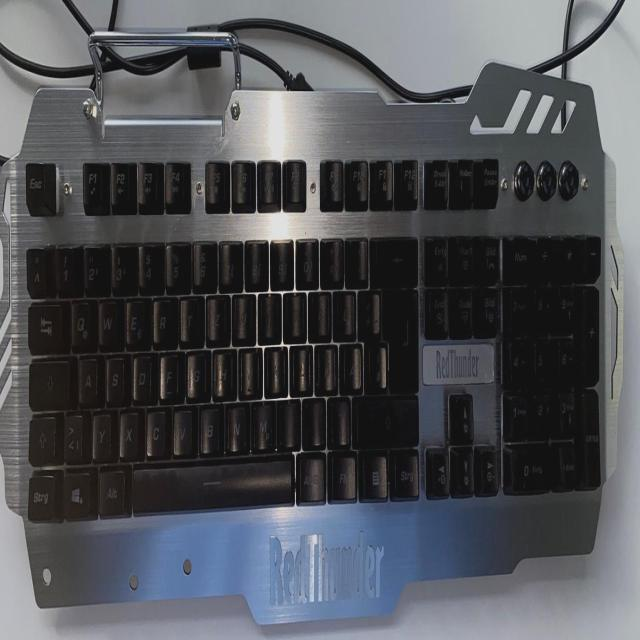0: (295, 234, 319, 286)
1: (54, 242, 79, 293)
2: (82, 239, 108, 293)
3: (110, 240, 134, 292)
4: (137, 240, 162, 291)
5: (164, 238, 190, 289)
6: (191, 236, 217, 288)
7: (218, 236, 242, 287)
8: (243, 235, 267, 288)
9: (269, 235, 294, 287)
a: (77, 351, 97, 403)
accent: (344, 232, 367, 283)
ae: (339, 338, 362, 390)
alt-left: (97, 462, 125, 514)
altgr-right: (296, 449, 324, 500)
b: (198, 400, 220, 451)
c: (145, 404, 166, 455)
caret: (26, 244, 46, 294)
comma: (276, 394, 299, 446)
d: (131, 349, 151, 401)
del: (369, 232, 417, 284)
e: (124, 293, 146, 345)
enter: (382, 285, 418, 391)
f: (158, 348, 178, 398)
g: (184, 346, 206, 396)
h: (211, 345, 234, 396)
hash: (363, 339, 386, 389)
i: (256, 287, 280, 338)
j: (237, 342, 260, 395)
k: (262, 341, 285, 393)
keyboard: (20, 123, 612, 537)
l: (288, 340, 311, 391)
less: (63, 407, 83, 460)
m: (249, 396, 272, 448)
minus: (326, 392, 349, 444)
n: (224, 398, 246, 449)
o: (282, 287, 305, 338)
oe: (313, 339, 336, 390)
p: (307, 287, 331, 337)
plus: (356, 286, 380, 336)
point: (300, 393, 324, 446)
q: (69, 295, 92, 348)
r: (151, 293, 174, 345)
s: (104, 352, 124, 403)
shift-left: (27, 412, 56, 463)
shift-lock: (28, 357, 71, 409)
shift-right: (353, 392, 418, 443)
space: (130, 453, 294, 511)
ss: (319, 233, 343, 284)
strg-left: (26, 470, 54, 518)
strg-right: (390, 446, 418, 496)
t: (178, 291, 201, 341)
tab: (26, 298, 62, 352)
u: (231, 288, 255, 340)
ue: (332, 286, 355, 337)
v: (172, 402, 192, 453)
w: (97, 294, 117, 346)
x: (118, 405, 138, 456)
y: (90, 407, 110, 457)
z: (205, 290, 229, 340)
